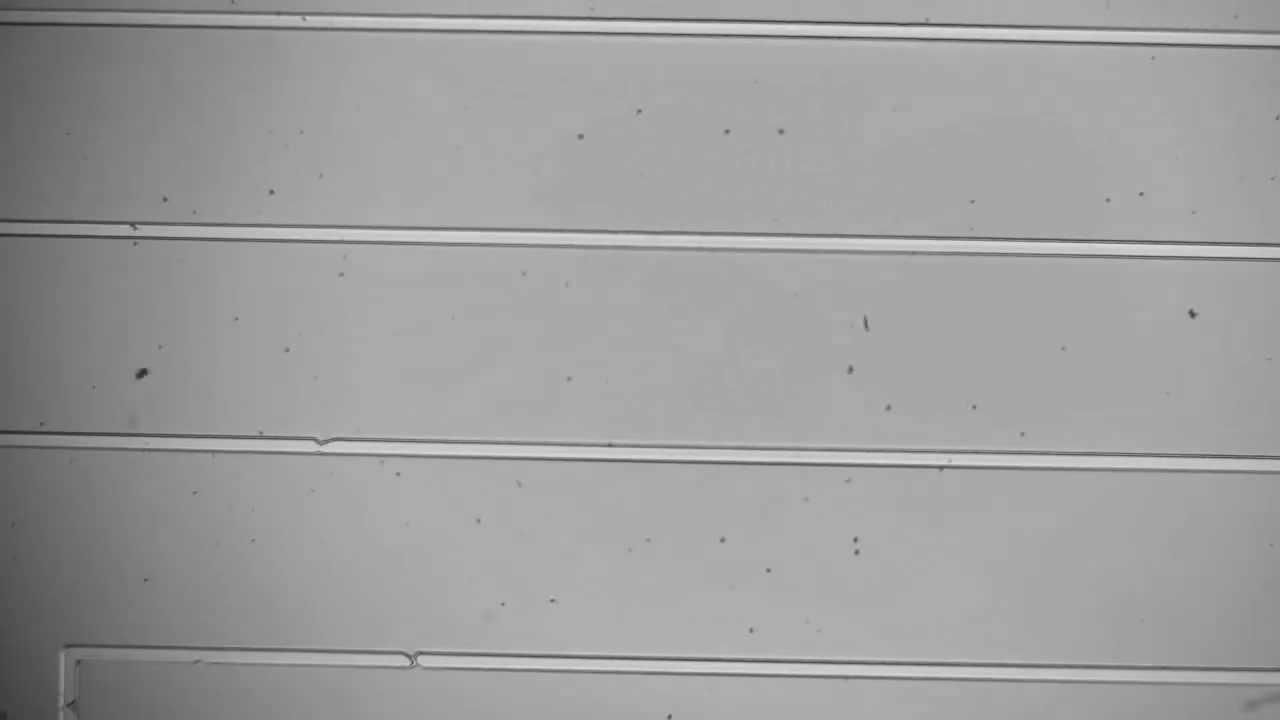edge_bite: (306, 429, 340, 466), (52, 693, 88, 718)
open: (395, 645, 432, 679)
